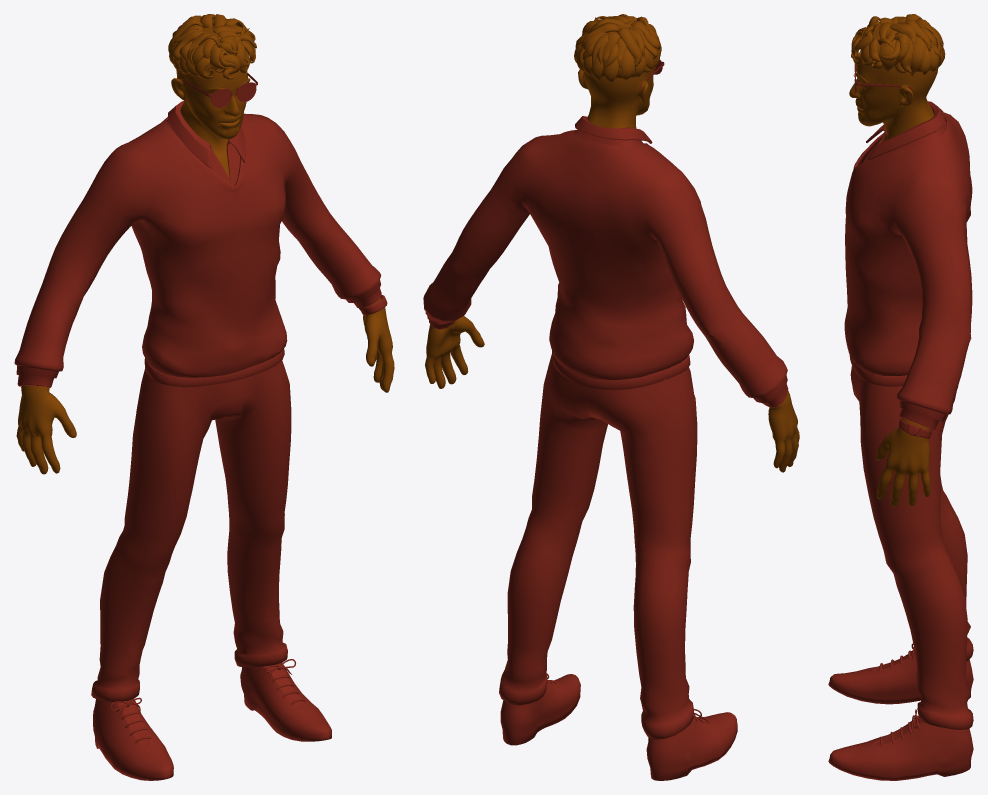
File: GG_Level1_Model_Seth.fbx
3 views of the same model, side by side, from view 1: azimuth 30°, elevation 25°; view 2: azimuth 150°, elevation 25°; view 3: azimuth 270°, elevation 25° (orthographic).
Parts seen in each view (by area): view 1: main_cloth, pants, body, shoe_base, hair, shirt, shoelace; view 2: main_cloth, pants, body, shoe_base, hair, shirt; view 3: main_cloth, pants, shoe_base, body, hair, shirt, shoelace.
Part boxes in pixels (<box>): main_cloth: <box>14,113,381,387</box>; pants: <box>91,360,291,701</box>; body: <box>16,67,394,474</box>; shoe_base: <box>93,663,331,780</box>; hair: <box>168,14,256,79</box>; shirt: <box>166,101,245,186</box>; shoelace: <box>110,659,305,743</box>; main_cloth: <box>423,130,788,407</box>; pants: <box>499,354,697,739</box>; body: <box>425,67,799,472</box>; shoe_base: <box>500,674,737,780</box>; hair: <box>574,14,661,82</box>; shirt: <box>573,116,652,147</box>; main_cloth: <box>844,112,972,429</box>; pants: <box>850,366,973,730</box>; shoe_base: <box>828,649,973,780</box>; body: <box>849,49,938,506</box>; hair: <box>851,14,945,76</box>; shirt: <box>860,101,946,163</box>; shoelace: <box>879,643,919,746</box>.
Bounding box in the file's own units: 103 × 194 × 35.86.
